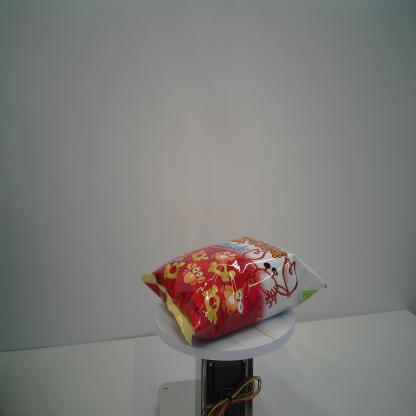Puffed Food: (140, 234, 332, 348)
